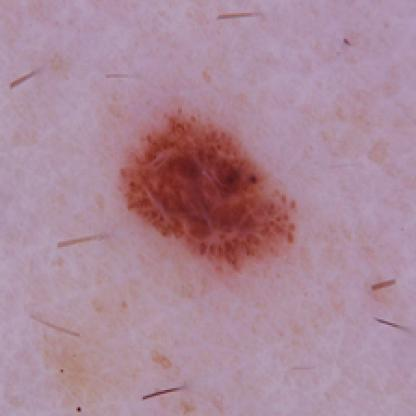Skin_Cancer-Malignant: (119, 107, 298, 278)
